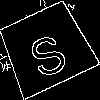S: (21, 23, 72, 81)
